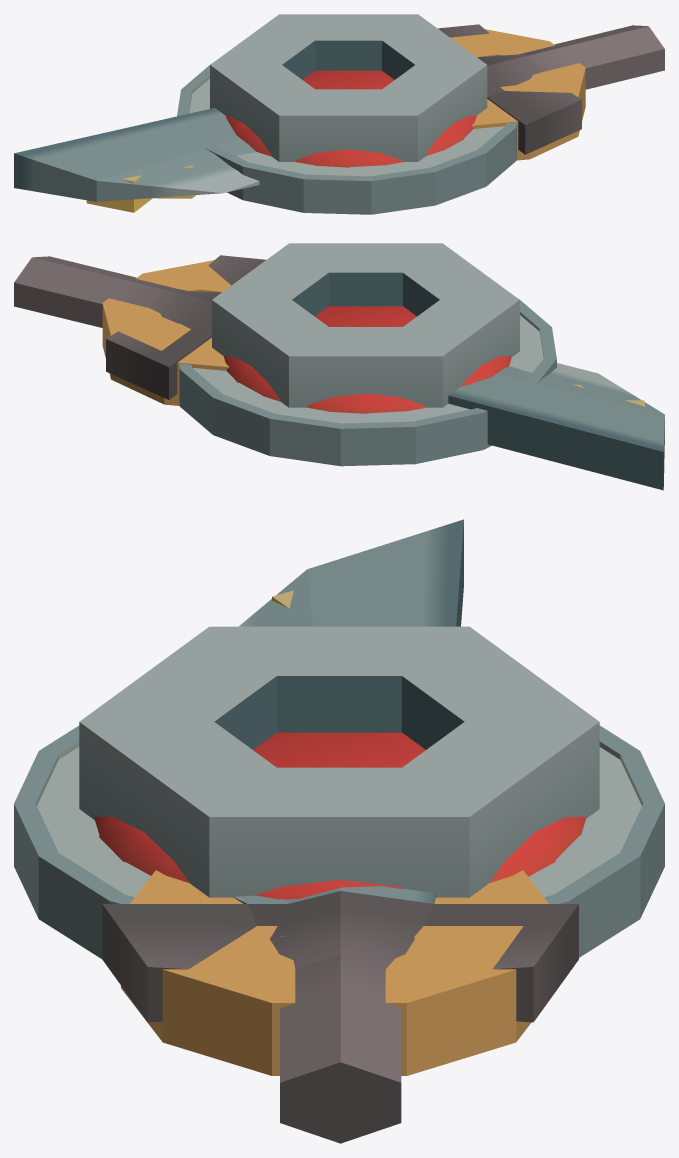
Rendered from trinkets.glb.
3 renders of one model, top to bottom at view 1: azimuth 30°, elevation 25°; view 2: azimuth 150°, elevation 25°; view 3: azimuth 270°, elevation 25°, orthographic. The views are drawn at different scales.
Parts seen in each view (by area): view 1: washer, knife, coin, key, bottlecap; view 2: washer, knife, coin, key, bottlecap; view 3: washer, knife, key, coin, bottlecap.
Part boxes in pixels (<box>): washer: <box>210,14,487,161</box>; knife: <box>14,24,664,201</box>; coin: <box>177,64,516,214</box>; key: <box>86,29,585,212</box>; bottlecap: <box>226,70,476,167</box>; washer: <box>212,243,519,407</box>; knife: <box>14,255,664,490</box>; coin: <box>179,298,556,466</box>; key: <box>102,260,645,406</box>; bottlecap: <box>223,306,511,413</box>; washer: <box>79,626,599,897</box>; knife: <box>102,519,578,1143</box>; key: <box>121,590,548,1075</box>; coin: <box>14,725,664,958</box>; bottlecap: <box>94,732,585,899</box>.
Size of the model in its own units: 1.67 by 0.269 by 0.8318.
Materials: 1 (1 with a texture image).
